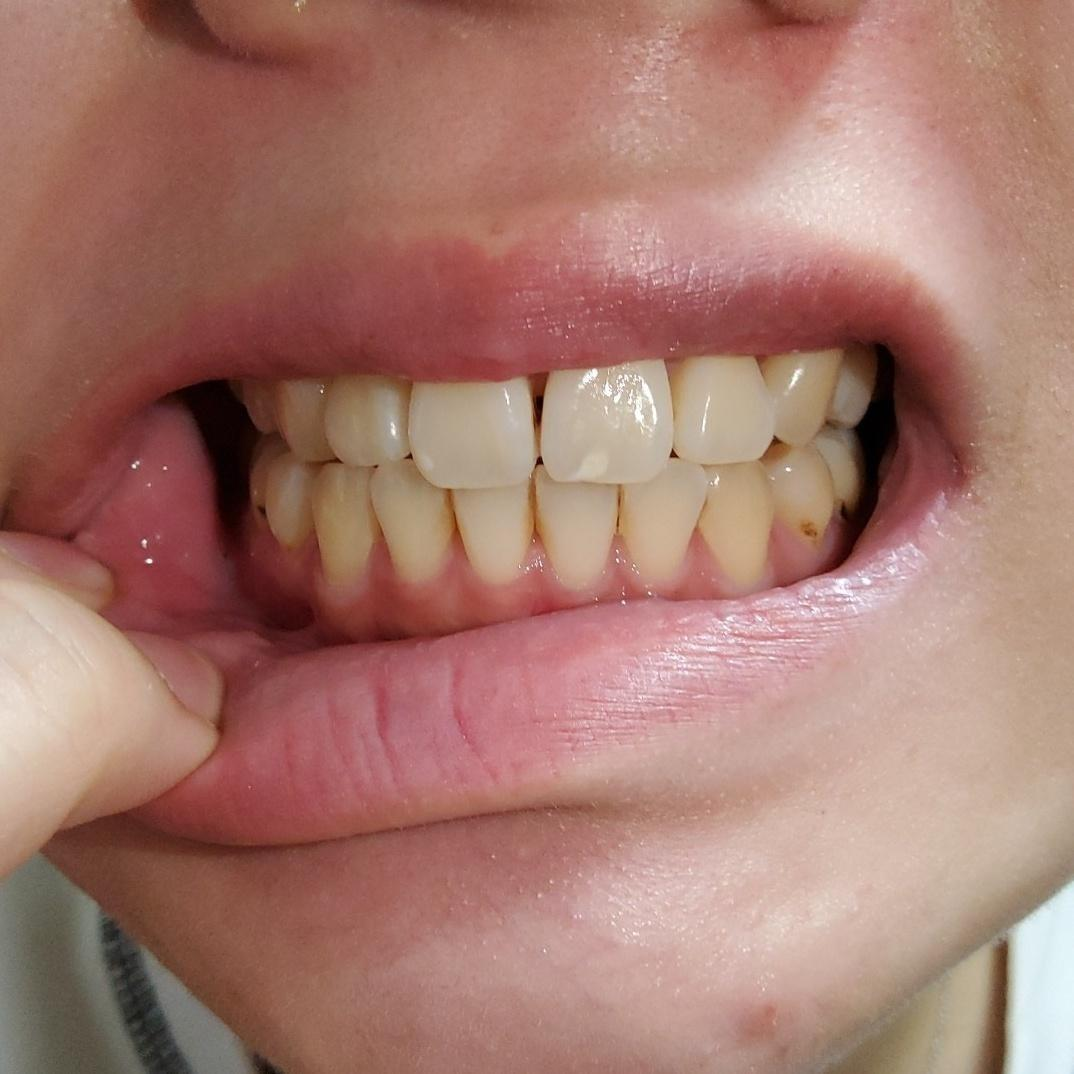Gap: (476, 374, 601, 455)
